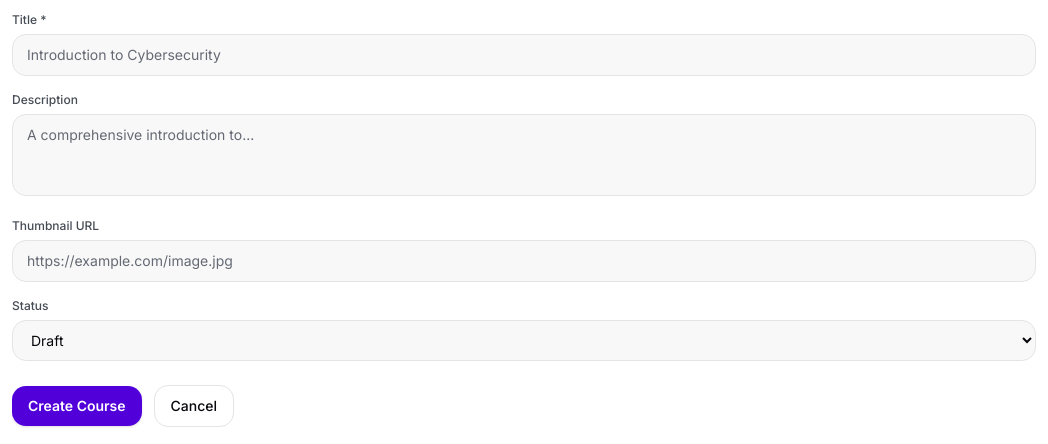
CourseForm › disables submit button while loading
This screenshot has width=1048, height=444.
In the field labelled "Title *": (524, 55) [12,34,1036,76], type "New Course"
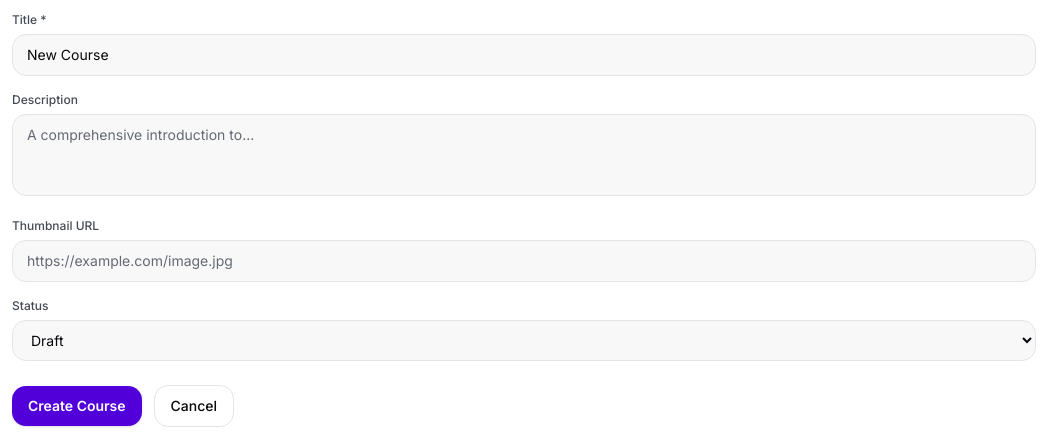
Click the button "Create Course": click(77, 406) [12,386,142,426]
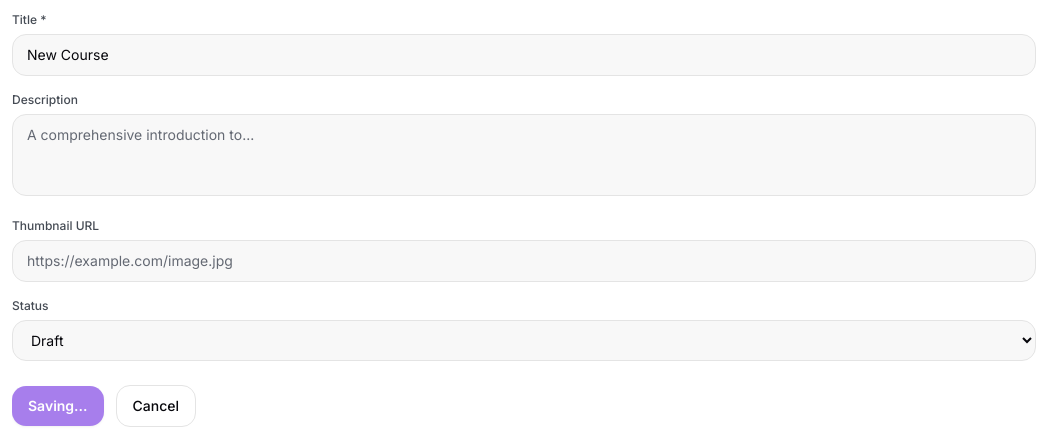
Expected: the button "Saving..." is disabled, [12,386,104,426]
